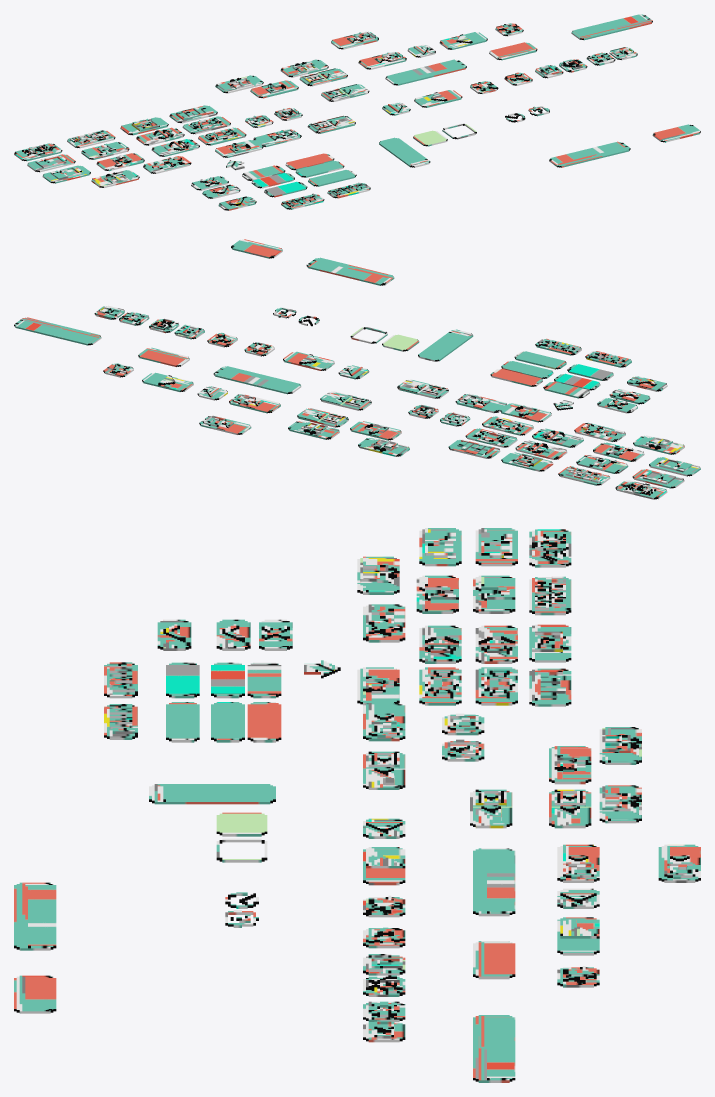
The model's file is UI_elements.dae.
3 views of the same model, one above another, from view 1: azimuth 30°, elevation 25°; view 2: azimuth 150°, elevation 25°; view 3: azimuth 270°, elevation 25° (orthographic). The views are drawn at different scales.
Parts seen in each view (by area): view 1: button_blank_red_leftright_longer_1, button_blank_leftright_longer, button_blank_grey_leftright_longer, button_blank_topbottom, button_restorepurchase, button_tip, button_alarm_off, button_gift, button_red_randomCharacterGet_1, button_red_rating_1, button_alarm_on, button_music_off (+32 smaller); view 2: button_blank_leftright_longer, button_blank_red_leftright_longer_1, button_blank_grey_leftright_longer, button_blank_topbottom, button_restorepurchase, button_grey_gift, button_gift, button_red_gift_1, button_tip, button_music_on, button_sound_off, button_batterysaver_on (+29 smaller); view 3: button_blank_leftright_longer, button_blank_red_leftright_longer_1, button_blank_grey_leftright_longer, button_blank_topbottom, button_red_ad_bonus_1, button_grey_ad_bonus, button_morogoro, button_plusstar, button_alarm_off, button_tip, button_alarm_on, button_blank_leftright (+43 smaller).
Boxes of the visible parts, left/top/right/bottom form: button_blank_red_leftright_longer_1: left=385, top=59, right=466, bottom=85; button_blank_leftright_longer: left=549, top=141, right=630, bottom=167; button_blank_grey_leftright_longer: left=571, top=14, right=652, bottom=40; button_blank_topbottom: left=379, top=137, right=430, bottom=167; button_restorepurchase: left=120, top=117, right=168, bottom=135; button_tip: left=14, top=143, right=62, bottom=161; button_alarm_off: left=198, top=127, right=246, bottom=145; button_gift: left=91, top=170, right=139, bottom=187; button_red_randomCharacterGet_1: left=358, top=51, right=406, bottom=69; button_red_rating_1: left=250, top=80, right=298, bottom=98; button_alarm_on: left=182, top=116, right=230, bottom=134; button_music_off: left=96, top=153, right=144, bottom=171; button_blank_leftright_longer: left=306, top=257, right=394, bottom=285; button_blank_red_leftright_longer_1: left=213, top=366, right=301, bottom=394; button_blank_grey_leftright_longer: left=14, top=317, right=101, bottom=345; button_blank_topbottom: left=418, top=329, right=473, bottom=361; button_restorepurchase: left=501, top=452, right=553, bottom=471; button_grey_gift: left=288, top=420, right=339, bottom=439; button_gift: left=633, top=435, right=684, bottom=454; button_red_gift_1: left=358, top=437, right=409, bottom=456; button_tip: left=615, top=480, right=667, bottom=499; button_music_on: left=576, top=454, right=628, bottom=473; button_sound_off: left=532, top=428, right=583, bottom=447; button_batterysaver_on: left=632, top=469, right=684, bottom=488; button_blank_leftright_longer: left=14, top=882, right=56, bottom=950; button_blank_red_leftright_longer_1: left=473, top=848, right=515, bottom=916; button_blank_grey_leftright_longer: left=473, top=1015, right=515, bottom=1082; button_blank_topbottom: left=149, top=784, right=275, bottom=804; button_red_ad_bonus_1: left=549, top=789, right=591, bottom=828; button_grey_ad_bonus: left=470, top=789, right=512, bottom=828; button_morogoro: left=529, top=576, right=571, bottom=615; button_plusstar: left=363, top=604, right=405, bottom=642; button_alarm_off: left=419, top=667, right=461, bottom=705; button_tip: left=529, top=529, right=571, bottom=567; button_alarm_on: left=475, top=667, right=517, bottom=705; button_blank_leftright: left=14, top=975, right=56, bottom=1013.
Bounding box in the file's own units: 464 × 3 × 244.
1 material, 1 textured.
